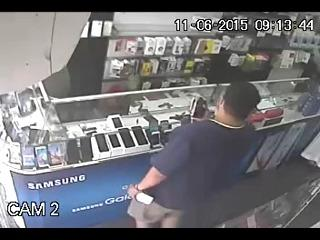Normal: (143, 62, 143, 62)
shoplifting: (124, 83, 264, 227)
